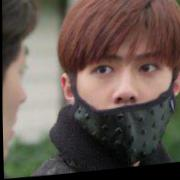NONE: (2, 31, 32, 162)
WRONG: (74, 33, 177, 157)
